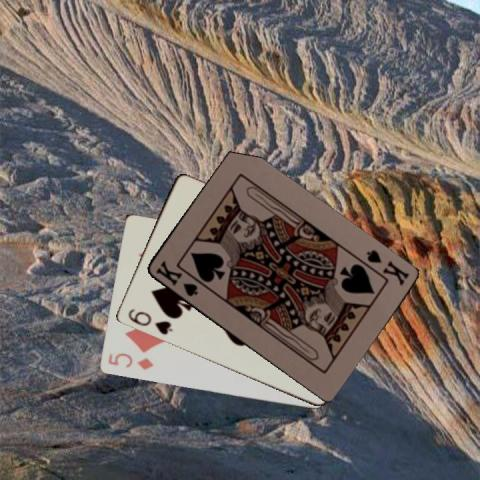5d: (104, 350, 154, 371)
6s: (125, 305, 173, 337)
Ks: (152, 257, 199, 299), (363, 247, 410, 287)
